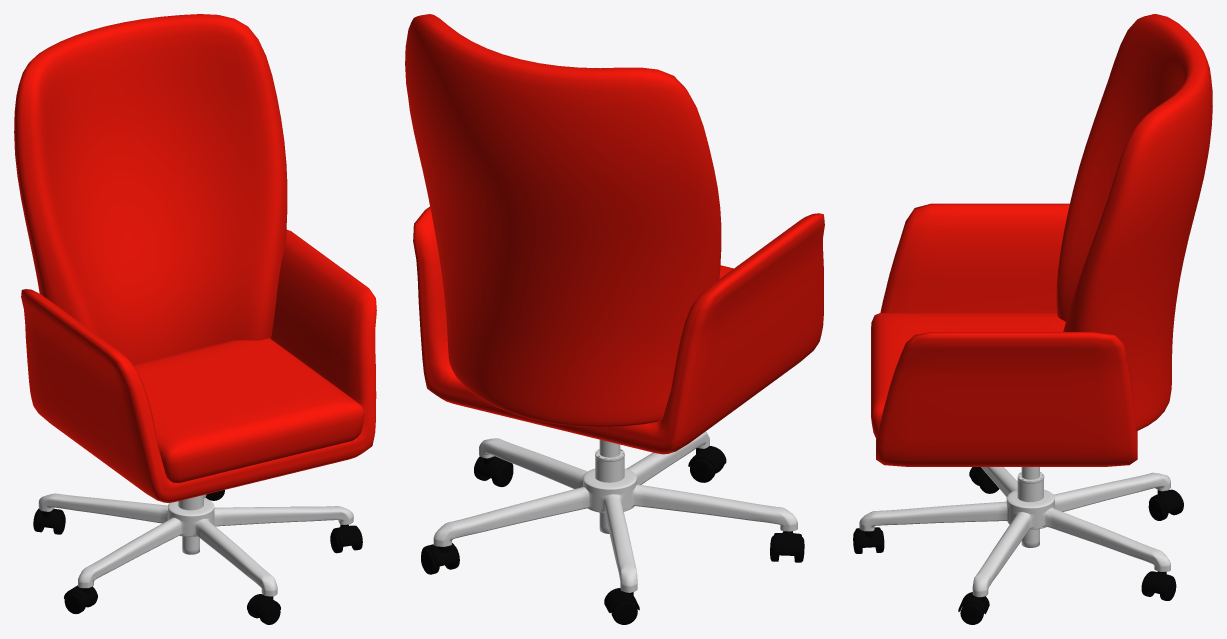
Rendered from seat_big_red.glb.
3 renders of one model, left to right at view 1: azimuth 30°, elevation 25°; view 2: azimuth 150°, elevation 25°; view 3: azimuth 270°, elevation 25°, orthographic. The views are drawn at different scales.
Parts seen in each view (by area): view 1: seat_side_low_7, pasted__pCylinder1_7; view 2: seat_side_low_7, pasted__pCylinder1_7; view 3: seat_side_low_7, pasted__pCylinder1_7.
Boxes of the visible parts, bbox=[...] form: seat_side_low_7: bbox=[14, 14, 376, 502]; pasted__pCylinder1_7: bbox=[33, 490, 362, 624]; seat_side_low_7: bbox=[405, 14, 824, 454]; pasted__pCylinder1_7: bbox=[421, 431, 804, 624]; seat_side_low_7: bbox=[871, 14, 1212, 466]; pasted__pCylinder1_7: bbox=[853, 467, 1183, 624].
Bounding box in the file's own units: 0.772 × 1.22 × 0.8101.
